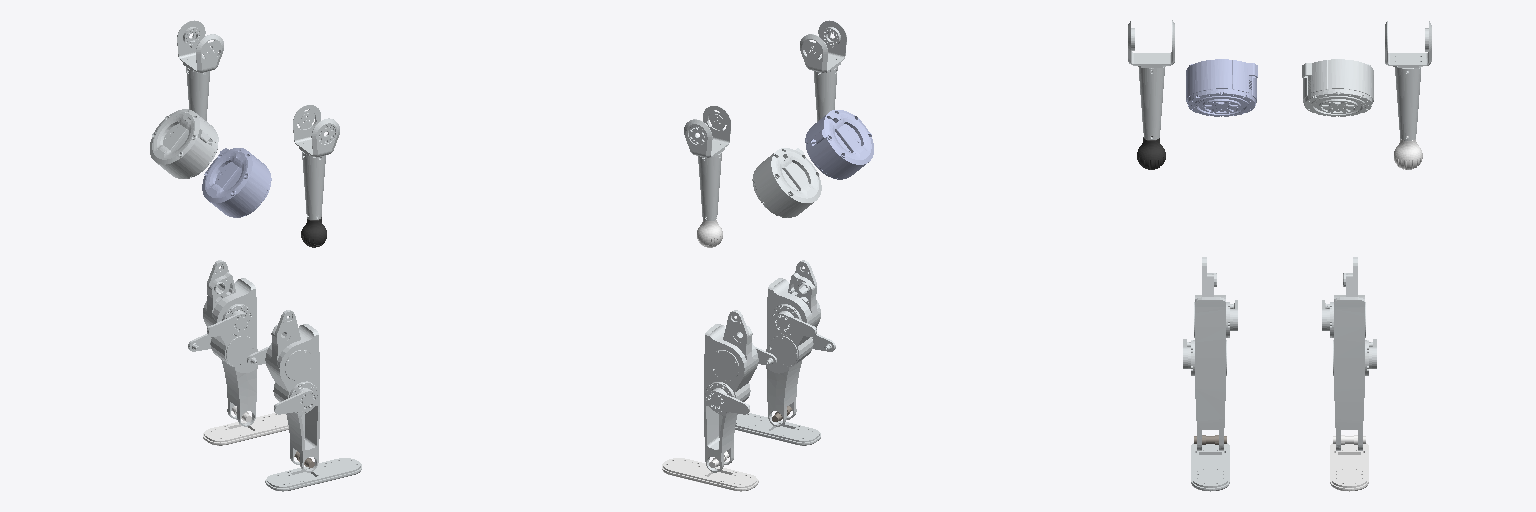
--- Facts derived from the render (not from the file) ---
3 views of the same robot in one strip: view 1: azimuth 30°, elevation 25°; view 2: azimuth 150°, elevation 25°; view 3: azimuth 270°, elevation 25° (orthographic).
Robot: N2 — 23 links, 22 joints (20 revolute, 2 fixed); root link base_link; default pose: every joint at zero.
Links seen in each view (by area): view 1: R_leg_knee_link, L_leg_knee_link, R_leg_hip_yaw_link, L_leg_hip_yaw_link, R_arm_elbow_Link, L_arm_elbow_Link, R_leg_ankle_roll_link, L_leg_ankle_roll_link, R_arm_hand_link; view 2: L_leg_knee_link, R_leg_knee_link, L_leg_hip_yaw_link, R_leg_hip_yaw_link, L_arm_elbow_Link, R_arm_elbow_Link, L_leg_ankle_roll_link, R_leg_ankle_roll_link, L_arm_hand_Link; view 3: R_leg_knee_link, L_leg_knee_link, L_leg_hip_yaw_link, R_leg_hip_yaw_link, L_arm_elbow_Link, R_arm_elbow_Link, L_leg_ankle_roll_link, R_leg_ankle_roll_link, R_arm_hand_link, L_arm_hand_Link.
Link boxes in pixels (x1=…): R_leg_knee_link: x1=247, y1=310, x2=319, y2=472; L_leg_knee_link: x1=188, y1=260, x2=257, y2=426; R_leg_hip_yaw_link: x1=202, y1=148, x2=271, y2=217; L_leg_hip_yaw_link: x1=150, y1=109, x2=218, y2=178; R_arm_elbow_Link: x1=293, y1=105, x2=339, y2=219; L_arm_elbow_Link: x1=177, y1=20, x2=223, y2=120; R_leg_ankle_roll_link: x1=265, y1=458, x2=361, y2=491; L_leg_ankle_roll_link: x1=203, y1=413, x2=288, y2=445; R_arm_hand_link: x1=301, y1=217, x2=326, y2=247; L_leg_knee_link: x1=704, y1=310, x2=776, y2=472; R_leg_knee_link: x1=766, y1=260, x2=835, y2=426; L_leg_hip_yaw_link: x1=752, y1=148, x2=821, y2=217; R_leg_hip_yaw_link: x1=805, y1=110, x2=873, y2=179; L_arm_elbow_Link: x1=684, y1=106, x2=730, y2=220; R_arm_elbow_Link: x1=800, y1=20, x2=846, y2=121; L_leg_ankle_roll_link: x1=662, y1=458, x2=758, y2=491; R_leg_ankle_roll_link: x1=735, y1=413, x2=820, y2=445; L_arm_hand_Link: x1=697, y1=219, x2=722, y2=247; R_leg_knee_link: x1=1183, y1=257, x2=1237, y2=450; L_leg_knee_link: x1=1322, y1=257, x2=1376, y2=450; L_leg_hip_yaw_link: x1=1302, y1=59, x2=1373, y2=116; R_leg_hip_yaw_link: x1=1186, y1=59, x2=1257, y2=116; L_arm_elbow_Link: x1=1385, y1=21, x2=1431, y2=140; R_arm_elbow_Link: x1=1128, y1=20, x2=1174, y2=139; L_leg_ankle_roll_link: x1=1330, y1=443, x2=1368, y2=491; R_leg_ankle_roll_link: x1=1191, y1=443, x2=1229, y2=491; R_arm_hand_link: x1=1137, y1=136, x2=1165, y2=169; L_arm_hand_Link: x1=1394, y1=136, x2=1422, y2=169.
Bounding box of the posed robot: 0.2902 × 0.4686 × 0.7356 m (x, y, z).
Meshes: 23 distinct files referenced, 12 mesh visuals loaded (12 binary STL); not drawn: 11 (reference not matched to a file when rendering).

The robot description file, URDF, robot "N2":
<?xml version="1.0" encoding="utf-8"?>
<!-- This URDF was automatically created by SolidWorks to URDF Exporter! Originally created by Stephen Brawner ([email redacted]) 
     Commit Version: 1.6.0-4-g7f85cfe  Build Version: 1.6.7995.38578
     For more information, please see http://wiki.ros.org/sw_urdf_exporter -->
<robot
  name="N2">
  <link
    name="base_link">
    <inertial>
      <origin
        xyz="0.0033233 0.00022809 0.048682"
        rpy="0 0 0" />
      <mass
        value="10.906" />
      <inertia
        ixx="0.036897"
        ixy="-1.1153E-05"
        ixz="0.0013572"
        iyy="0.017205"
        iyz="-7.8844E-06"
        izz="0.030119" />
    </inertial>
    <visual>
      <origin
        xyz="0 0 0"
        rpy="0 0 0" />
      <geometry>
        <mesh
          filename="../meshes/base_link.STL" />
      </geometry>
      <material
        name="">
        <color
          rgba="0.89804 0.91765 0.92941 1" />
      </material>
    </visual>
    <collision>
      <origin
        xyz="0 0 0"
        rpy="0 0 0" />
      <geometry>
        <mesh
          filename="../meshes/base_link.STL" />
      </geometry>
    </collision>
  </link>
  <link
    name="L_arm_shoulder_pitch_Link">
    <inertial>
      <origin
        xyz="0.0029295 -0.0009965 -0.0082628"
        rpy="0 0 0" />
      <mass
        value="0.53256" />
      <inertia
        ixx="0.00025803"
        ixy="-3.9348E-08"
        ixz="-8.4172E-07"
        iyy="0.00019086"
        iyz="-2.8405E-07"
        izz="0.00019" />
    </inertial>
    <visual>
      <origin
        xyz="0 0 0"
        rpy="0 0 0" />
      <geometry>
        <mesh
          filename="../meshes/l_arm_shoulder_pitch_Link.STL" />
      </geometry>
      <material
        name="">
        <color
          rgba="0.89804 0.91765 0.92941 1" />
      </material>
    </visual>
    <collision>
      <origin
        xyz="0 0 0"
        rpy="0 0 0" />
      <geometry>
        <mesh
          filename="../meshes/l_arm_shoulder_pitch_Link.STL" />
      </geometry>
    </collision>
  </link>
  <joint
    name="L_arm_shoulder_pitch_joint"
    type="revolute">
    <origin
      xyz="0.003069 0.16731 0.17743"
      rpy="-1.3963 0 0" />
    <parent
      link="base_link" />
    <child
      link="L_arm_shoulder_pitch_Link" />
    <axis
      xyz="0 0 1" />
    <limit
      lower="-2.7"
      upper="2.7"
      effort="27"
      velocity="10" />
  </joint>
  <link
    name="L_arm_shoulder_roll_Link">
    <inertial>
      <origin
        xyz="0.0036277 0.029074 -0.054867"
        rpy="0 0 0" />
      <mass
        value="0.77513" />
      <inertia
        ixx="0.00046269"
        ixy="3.0555E-06"
        ixz="-1.5146E-06"
        iyy="0.00035149"
        iyz="1.9611E-05"
        izz="0.00040004" />
    </inertial>
    <visual>
      <origin
        xyz="0 0 0"
        rpy="0 0 0" />
      <geometry>
        <mesh
          filename="../meshes/l_arm_shoulder_roll_Link.STL" />
      </geometry>
      <material
        name="">
        <color
          rgba="0.89804 0.91765 0.92941 1" />
      </material>
    </visual>
    <collision>
      <origin
        xyz="0 0 0"
        rpy="0 0 0" />
      <geometry>
        <mesh
          filename="../meshes/l_arm_shoulder_roll_Link.STL" />
      </geometry>
    </collision>
  </link>
  <joint
    name="L_arm_shoulder_roll_joint"
    type="revolute">
    <origin
      xyz="0 0 0"
      rpy="1.3963 0 0" />
    <parent
      link="L_arm_shoulder_pitch_Link" />
    <child
      link="L_arm_shoulder_roll_Link" />
    <axis
      xyz="1 0 0" />
    <limit
      lower="0"
      upper="2.1"
      effort="27"
      velocity="10" />
  </joint>
  <link
    name="L_arm_shoulder_yaw_Link">
    <inertial>
      <origin
        xyz="0.0025992 4.9093E-05 -0.15799"
        rpy="0 0 0" />
      <mass
        value="0.62854" />
      <inertia
        ixx="0.01"
        ixy="-7.1141E-08"
        ixz="1.0035E-06"
        iyy="0.01"
        iyz="-8.1583E-07"
        izz="0.01" />
    </inertial>
    <visual>
      <origin
        xyz="0 0 0"
        rpy="0 0 0" />
      <geometry>
        <mesh
          filename="../meshes/l_arm_shoulder_yaw_Link.STL" />
      </geometry>
      <material
        name="">
        <color
          rgba="1 1 1 1" />
      </material>
    </visual>
    <collision>
      <origin
        xyz="0 0 0"
        rpy="0 0 0" />
      <geometry>
        <mesh
          filename="../meshes/l_arm_shoulder_yaw_Link.STL" />
      </geometry>
    </collision>
  </link>
  <joint
    name="L_arm_shoulder_yaw_joint"
    type="revolute">
    <origin
      xyz="0 0.030484 0"
      rpy="0 0 0" />
    <parent
      link="L_arm_shoulder_roll_Link" />
    <child
      link="L_arm_shoulder_yaw_Link" />
    <axis
      xyz="0 0 1" />
    <limit
      lower="-2.7"
      upper="2.7"
      effort="27"
      velocity="10" />
  </joint>
  <link
    name="L_arm_elbow_Link">
    <inertial>
      <origin
        xyz="-0.0038821 0.00087577 -0.07099"
        rpy="0 0 0" />
      <mass
        value="0.35793" />
      <inertia
        ixx="0.00029656"
        ixy="7.1133E-08"
        ixz="-2.9612E-06"
        iyy="0.00030929"
        iyz="4.6678E-07"
        izz="6.9881E-05" />
    </inertial>
    <visual>
      <origin
        xyz="0 0 0"
        rpy="0 0 0" />
      <geometry>
        <mesh
          filename="../meshes/l_arm_elbow_Link.STL" />
      </geometry>
      <material
        name="">
        <color
          rgba="0.89804 0.91765 0.92941 1" />
      </material>
    </visual>
    <collision>
      <origin
        xyz="0 0 0"
        rpy="0 0 0" />
      <geometry>
        <mesh
          filename="../meshes/l_arm_elbow_Link.STL" />
      </geometry>
    </collision>
  </link>
  <joint
    name="L_arm_elbow_joint"
    type="revolute">
    <origin
      xyz="0.0030284 0 -0.17141"
      rpy="0 0 0" />
    <parent
      link="L_arm_shoulder_yaw_Link" />
    <child
      link="L_arm_elbow_Link" />
    <axis
      xyz="0 1 0" />
    <limit
      lower="-1.8"
      upper="1"
      effort="27"
      velocity="10" />
  </joint>
  <link
    name="L_arm_hand_Link">
    <inertial>
      <origin
        xyz="-2.6372E-08 -0.00036865 -0.014941"
        rpy="0 0 0" />
      <mass
        value="0.063335" />
      <inertia
        ixx="1.7685E-05"
        ixy="-4.0855E-11"
        ixz="8.2119E-11"
        iyy="1.7585E-05"
        iyz="1.3619E-11"
        izz="1.1594E-05" />
    </inertial>
    <visual>
      <origin
        xyz="0 0 0"
        rpy="0 0 0" />
      <geometry>
        <mesh
          filename="../meshes/l_arm_hand_Link.STL" />
      </geometry>
      <material
        name="">
        <color
          rgba="1 1 1 1" />
      </material>
    </visual>
    <collision>
      <origin
        xyz="0 0 0"
        rpy="0 0 0" />
      <geometry>
        <mesh
          filename="../meshes/l_arm_hand_Link.STL" />
      </geometry>
    </collision>
  </link>
  <joint
    name="L_arm_hand_joint"
    type="fixed" dont_collapse="true">
    <origin
      xyz="-0.0045 0.00036368 -0.1815"
      rpy="0 0 0" />
    <parent
      link="L_arm_elbow_Link" />
    <child
      link="L_arm_hand_Link" />
    <axis
      xyz="0 0 0" />
  </joint>
  <link
    name="R_arm_shoulder_pitch_Link">
    <inertial>
      <origin
        xyz="0.0029295 0.0009965 -0.0082628"
        rpy="0 0 0" />
      <mass
        value="0.53256" />
      <inertia
        ixx="0.00025803"
        ixy="3.9348E-08"
        ixz="-8.4172E-07"
        iyy="0.00019086"
        iyz="2.8405E-07"
        izz="0.00019" />
    </inertial>
    <visual>
      <origin
        xyz="0 0 0"
        rpy="0 0 0" />
      <geometry>
        <mesh
          filename="../meshes/r_arm_shoulder_pitch_Link.STL" />
      </geometry>
      <material
        name="">
        <color
          rgba="0.64706 0.61961 0.58824 1" />
      </material>
    </visual>
    <collision>
      <origin
        xyz="0 0 0"
        rpy="0 0 0" />
      <geometry>
        <mesh
          filename="../meshes/r_arm_shoulder_pitch_Link.STL" />
      </geometry>
    </collision>
  </link>
  <joint
    name="R_arm_shoulder_pitch_joint"
    type="revolute">
    <origin
      xyz="0.003069 -0.16721 0.17835"
      rpy="1.3963 0 0" />
    <parent
      link="base_link" />
    <child
      link="R_arm_shoulder_pitch_Link" />
    <axis
      xyz="0 0 -1" />
    <limit
      lower="-2.7"
      upper="2.7"
      effort="27"
      velocity="10" />
  </joint>
  <link
    name="R_arm_shoulder_roll_Link">
    <inertial>
      <origin
        xyz="0.0036277 -0.029074 -0.054867"
        rpy="0 0 0" />
      <mass
        value="0.77513" />
      <inertia
        ixx="0.00046269"
        ixy="-3.0555E-06"
        ixz="-1.5146E-06"
        iyy="0.00035149"
        iyz="-1.9611E-05"
        izz="0.00040004" />
    </inertial>
    <visual>
      <origin
        xyz="0 0 0"
        rpy="0 0 0" />
      <geometry>
        <mesh
          filename="../meshes/r_arm_shoulder_roll_Link.STL" />
      </geometry>
      <material
        name="">
        <color
          rgba="0.89804 0.91765 0.92941 1" />
      </material>
    </visual>
    <collision>
      <origin
        xyz="0 0 0"
        rpy="0 0 0" />
      <geometry>
        <mesh
          filename="../meshes/r_arm_shoulder_roll_Link.STL" />
      </geometry>
    </collision>
  </link>
  <joint
    name="R_arm_shoulder_roll_joint"
    type="revolute">
    <origin
      xyz="0 0 0"
      rpy="-1.3963 0 0" />
    <parent
      link="R_arm_shoulder_pitch_Link" />
    <child
      link="R_arm_shoulder_roll_Link" />
    <axis
      xyz="1 0 0" />
    <limit
      lower="-2.1"
      upper="0"
      effort="27"
      velocity="10" />
  </joint>
  <link
    name="R_arm_shoulder_yaw_Link">
    <inertial>
      <origin
        xyz="0.0025992 -4.9093E-05 -0.15799"
        rpy="0 0 0" />
      <mass
        value="0.62854" />
      <inertia
        ixx="0.01"
        ixy="7.1141E-08"
        ixz="1.0035E-06"
        iyy="0.01"
        iyz="8.1583E-07"
        izz="0.01" />
    </inertial>
    <visual>
      <origin
        xyz="0 0 0"
        rpy="0 0 0" />
      <geometry>
        <mesh
          filename="../meshes/r_arm_shoulder_yaw_Link.STL" />
      </geometry>
      <material
        name="">
        <color
          rgba="0.64706 0.61961 0.58824 1" />
      </material>
    </visual>
    <collision>
      <origin
        xyz="0 0 0"
        rpy="0 0 0" />
      <geometry>
        <mesh
          filename="../meshes/r_arm_shoulder_yaw_Link.STL" />
      </geometry>
    </collision>
  </link>
  <joint
    name="R_arm_shoulder_yaw_joint"
    type="revolute">
    <origin
      xyz="0 -0.030576 0"
      rpy="0 0 0" />
    <parent
      link="R_arm_shoulder_roll_Link" />
    <child
      link="R_arm_shoulder_yaw_Link" />
    <axis
      xyz="0 0 1" />
    <limit
      lower="-2.7"
      upper="2.7"
      effort="27"
      velocity="10" />
  </joint>
  <link
    name="R_arm_elbow_Link">
    <inertial>
      <origin
        xyz="-0.0038821 -0.00087579 -0.07099"
        rpy="0 0 0" />
      <mass
        value="0.35793" />
      <inertia
        ixx="0.00029656"
        ixy="-7.2704E-08"
        ixz="-2.9611E-06"
        iyy="0.00030929"
        iyz="-4.6693E-07"
        izz="6.9881E-05" />
    </inertial>
    <visual>
      <origin
        xyz="0 0 0"
        rpy="0 0 0" />
      <geometry>
        <mesh
          filename="../meshes/r_arm_elbow_Link.STL" />
      </geometry>
      <material
        name="">
        <color
          rgba="0.89804 0.91765 0.92941 1" />
      </material>
    </visual>
    <collision>
      <origin
        xyz="0 0 0"
        rpy="0 0 0" />
      <geometry>
        <mesh
          filename="../meshes/r_arm_elbow_Link.STL" />
      </geometry>
    </collision>
  </link>
  <joint
    name="R_arm_elbow_joint"
    type="revolute">
    <origin
      xyz="0.0030284 0 -0.17141"
      rpy="0 0 0" />
    <parent
      link="R_arm_shoulder_yaw_Link" />
    <child
      link="R_arm_elbow_Link" />
    <axis
      xyz="0 1 0" />
    <limit
      lower="-1.8"
      upper="1"
      effort="27"
      velocity="10" />
  </joint>
  <link
    name="R_arm_hand_link">
   <inertial>
      <origin
        xyz="-2.6372E-08 0.00036865 -0.014941"
        rpy="0 0 0" />
      <mass
        value="0.063335" />
      <inertia
        ixx="1.7685E-05"
        ixy="4.0855E-11"
        ixz="8.2119E-11"
        iyy="1.7585E-05"
        iyz="-1.3619E-11"
        izz="1.1594E-05" />
    </inertial>
    <visual>
      <origin
        xyz="0 0 0"
        rpy="0 0 0" />
      <geometry>
        <mesh
          filename="../meshes/r_arm_hand_Link.STL" />
      </geometry>
      <material
        name="">
        <color
          rgba="0.29804 0.29804 0.29804 1" />
      </material>
    </visual>
    <collision>
      <origin
        xyz="0 0 0"
        rpy="0 0 0" />
      <geometry>
        <mesh
          filename="../meshes/r_arm_hand_Link.STL" />
      </geometry>
    </collision>
  </link>
  <joint
    name="R_arm_hand_joint"
    type="fixed" dont_collapse="true">
    <origin
      xyz="-0.0045 -0.00036368 -0.1815"
      rpy="0 0 0" />
    <parent
      link="R_arm_elbow_Link" />
    <child
      link="R_arm_hand_link" />
    <axis
      xyz="0 0 0" />
  </joint>
  <link
    name="L_leg_hip_yaw_link">
    <inertial>
      <origin
        xyz="-0.022328 -0.0010228 0.019477"
        rpy="0 0 0" />
      <mass
        value="1.3433" />
      <inertia
        ixx="0.0021778"
        ixy="-7.7601E-07"
        ixz="8.3614E-06"
        iyy="0.0012569"
        iyz="5.4961E-06"
        izz="0.0011856" />
    </inertial>
    <visual>
      <origin
        xyz="0 0 0"
        rpy="0 0 0" />
      <geometry>
        <mesh
          filename="../meshes/l_leg_hip_yaw_link.STL" />
      </geometry>
      <material
        name="">
        <color
          rgba="0.89804 0.91765 0.92941 1" />
      </material>
    </visual>
    <collision>
      <origin
        xyz="0 0 0"
        rpy="0 0 0" />
      <geometry>
        <mesh
          filename="../meshes/l_leg_hip_yaw_link.STL" />
      </geometry>
    </collision>
  </link>
  <joint
    name="L_leg_hip_yaw_joint"
    type="revolute">
    <origin
      xyz="-0.065793 0.091233 -0.14593"
      rpy="0 0.7854 0" />
    <parent
      link="base_link" />
    <child
      link="L_leg_hip_yaw_link" />
    <axis
      xyz="0 0 1" />
    <limit
      lower="-0.65"
      upper="1"
      effort="90"
      velocity="14" />
  </joint>
  <link
    name="L_leg_hip_roll_link">
    <inertial>
      <origin
        xyz="0.084108 -0.01988 0.0020216"
        rpy="0 0 0" />
      <mass
        value="1.9691" />
      <inertia
        ixx="0.0020007"
        ixy="-1.7283E-05"
        ixz="3.6844E-06"
        iyy="0.0041236"
        iyz="3.2614E-06"
        izz="0.0025413" />
    </inertial>
    <visual>
      <origin
        xyz="0 0 0"
        rpy="0 0 0" />
      <geometry>
        <mesh
          filename="../meshes/l_leg_hip_roll_link.STL" />
      </geometry>
      <material
        name="">
        <color
          rgba="0.89804 0.91765 0.92941 1" />
      </material>
    </visual>
    <collision>
      <origin
        xyz="0 0 0"
        rpy="0 0 0" />
      <geometry>
        <mesh
          filename="../meshes/l_leg_hip_roll_link.STL" />
      </geometry>
    </collision>
  </link>
  <joint
    name="L_leg_hip_roll_joint"
    type="revolute">
    <origin
      xyz="0 0 0"
      rpy="0 0 0" />
    <parent
      link="L_leg_hip_yaw_link" />
    <child
      link="L_leg_hip_roll_link" />
    <axis
      xyz="1 0 0" />
    <limit
      lower="-0.65"
      upper="1"
      effort="90"
      velocity="14" />
  </joint>
  <link
    name="L_leg_hip_pitch_link">
    <inertial>
      <origin
        xyz="0.0048954 0.046764 -0.028101"
        rpy="0 0 0" />
      <mass
        value="3.1965" />
      <inertia
        ixx="0.0091975"
        ixy="5.4555E-05"
        ixz="0.00059007"
        iyy="0.011943"
        iyz="-0.00045886"
        izz="0.0032838" />
    </inertial>
    <visual>
      <origin
        xyz="0 0 0"
        rpy="0 0 0" />
      <geometry>
        <mesh
          filename="../meshes/l_leg_hip_pitch_link.STL" />
      </geometry>
      <material
        name="">
        <color
          rgba="1 1 1 1" />
      </material>
    </visual>
    <collision>
      <origin
        xyz="0 0 0"
        rpy="0 0 0" />
      <geometry>
        <mesh
          filename="../meshes/l_leg_hip_pitch_link.STL" />
      </geometry>
    </collision>
  </link>
  <joint
    name="L_leg_hip_pitch_joint"
    type="revolute">
    <origin
      xyz="0.09758 -0.0012327 0.0021351"
      rpy="0 -0.7854 0" />
    <parent
      link="L_leg_hip_roll_link" />
    <child
      link="L_leg_hip_pitch_link" />
    <axis
      xyz="0 1 0" />
    <limit
      lower="-1.57"
      upper="0.78"
      effort="150"
      velocity="14" />
  </joint>
  <link
    name="L_leg_knee_link">
    <inertial>
      <origin
        xyz="0.028231 0.017047 -0.095326"
        rpy="0 0 0" />
      <mass
        value="1.7886" />
      <inertia
        ixx="0.0040834"
        ixy="1.5129E-05"
        ixz="0.00041996"
        iyy="0.0046607"
        iyz="-7.7332E-05"
        izz="0.00089674" />
    </inertial>
    <visual>
      <origin
        xyz="0 0 0"
        rpy="0 0 0" />
      <geometry>
        <mesh
          filename="../meshes/l_leg_knee_link.STL" />
      </geometry>
      <material
        name="">
        <color
          rgba="0.89804 0.91765 0.92941 1" />
      </material>
    </visual>
    <collision>
      <origin
        xyz="0 0 0"
        rpy="0 0 0" />
      <geometry>
        <mesh
          filename="../meshes/l_leg_knee_link.STL" />
      </geometry>
    </collision>
  </link>
  <joint
    name="L_leg_knee_joint"
    type="revolute">
    <origin
      xyz="-0.016942 0 -0.19928"
      rpy="0 0 0" />
    <parent
      link="L_leg_hip_pitch_link" />
    <child
      link="L_leg_knee_link" />
    <axis
      xyz="0 1 0" />
    <limit
      lower="0"
      upper="2.2"
      effort="150"
      velocity="14" />
  </joint>
  <link
    name="L_leg_ankle_pitch_link">
    <inertial>
      <origin
        xyz="-9.0899E-06 2.9433E-08 -0.010853"
        rpy="0 0 0" />
      <mass
        value="0.22437" />
      <inertia
        ixx="0.01"
        ixy="1.9749E-10"
        ixz="-8.5472E-09"
        iyy="0.01"
        iyz="7.374E-12"
        izz="0.01" />
    </inertial>
    <visual>
      <origin
        xyz="0 0 0"
        rpy="0 0 0" />
      <geometry>
        <mesh
          filename="../meshes/l_leg_ankle_pitch_link.STL" />
      </geometry>
      <material
        name="">
        <color
          rgba="1 1 1 1" />
      </material>
    </visual>
    <collision>
      <origin
        xyz="0 0 0"
        rpy="0 0 0" />
      <geometry>
        <mesh
          filename="../meshes/l_leg_ankle_pitch_link.STL" />
      </geometry>
    </collision>
  </link>
  <joint
    name="L_leg_ankle_pitch_joint"
    type="revolute">
    <origin
      xyz="0.046825 0.017099 -0.25067"
      rpy="0 0 0" />
    <parent
      link="L_leg_knee_link" />
    <child
      link="L_leg_ankle_pitch_link" />
    <axis
      xyz="0 1 0" />
    <limit
      lower="-1"
      upper="0.75"
      effort="70"
      velocity="12" />
  </joint>
  <link
    name="L_leg_ankle_roll_link">
    <inertial>
      <origin
        xyz="0.0027677 -1.5769E-06 -0.027597"
        rpy="0 0 0" />
      <mass
        value="0.24397" />
      <inertia
        ixx="0.01"
        ixy="7.9155E-11"
        ixz="-2.3871E-07"
        iyy="0.01"
        iyz="-3.1794E-13"
        izz="0.01" />
    </inertial>
    <visual>
      <origin
        xyz="0 0 0"
        rpy="0 0 0" />
      <geometry>
        <mesh
          filename="../meshes/l_leg_ankle_roll_link.STL" />
      </geometry>
      <material
        name="">
        <color
          rgba="1 1 1 1" />
      </material>
    </visual>
    <collision>
      <origin
        xyz="0 0 0"
        rpy="0 0 0" />
      <geometry>
        <mesh
          filename="../meshes/l_leg_ankle_roll_link.STL" />
      </geometry>
    </collision>
  </link>
  <joint
    name="L_leg_ankle_roll_joint"
    type="revolute">
    <origin
      xyz="0 0 0"
      rpy="0 0 0" />
    <parent
      link="L_leg_ankle_pitch_link" />
    <child
      link="L_leg_ankle_roll_link" />
    <axis
      xyz="1 0 0" />
    <limit
      lower="-0.314"
      upper="0.314"
      effort="70"
      velocity="12" />
  </joint>
  <link
    name="R_leg_hip_yaw_link">
    <inertial>
      <origin
        xyz="-0.022328 0.0010228 0.019477"
        rpy="0 0 0" />
      <mass
        value="1.3433" />
      <inertia
        ixx="0.0021778"
        ixy="7.7601E-07"
        ixz="8.3614E-06"
        iyy="0.0012569"
        iyz="-5.4961E-06"
        izz="0.0011856" />
    </inertial>
    <visual>
      <origin
        xyz="0 0 0"
        rpy="0 0 0" />
      <geometry>
        <mesh
          filename="../meshes/r_leg_hip_yaw_link.STL" />
      </geometry>
      <material
        name="">
        <color
          rgba="0.79216 0.81961 0.93333 1" />
      </material>
    </visual>
    <collision>
      <origin
        xyz="0 0 0"
        rpy="0 0 0" />
      <geometry>
        <mesh
          filename="../meshes/r_leg_hip_yaw_link.STL" />
      </geometry>
    </collision>
  </link>
  <joint
    name="R_leg_hip_yaw_joint"
    type="revolute">
    <origin
      xyz="-0.065793 -0.091233 -0.14593"
      rpy="0 0.7854 0" />
    <parent
      link="base_link" />
    <child
      link="R_leg_hip_yaw_link" />
    <axis
      xyz="0 0 1" />
    <limit
      lower="-1"
      upper="0.65"
      effort="90"
      velocity="14" />
  </joint>
  <link
    name="R_leg_hip_roll_link">
    <inertial>
      <origin
        xyz="0.084108 0.01988 0.0020216"
        rpy="0 0 0" />
      <mass
        value="1.9691" />
     <inertia
        ixx="0.0020007"
        ixy="1.7283E-05"
        ixz="3.6844E-06"
        iyy="0.0041236"
        iyz="-3.2614E-06"
        izz="0.0025413" />
    </inertial>
    <visual>
      <origin
        xyz="0 0 0"
        rpy="0 0 0" />
      <geometry>
        <mesh
          filename="../meshes/r_leg_hip_roll_link.STL" />
      </geometry>
      <material
        name="">
        <color
          rgba="0.89804 0.91765 0.92941 1" />
      </material>
    </visual>
    <collision>
      <origin
        xyz="0 0 0"
        rpy="0 0 0" />
      <geometry>
        <mesh
          filename="../meshes/r_leg_hip_roll_link.STL" />
      </geometry>
    </collision>
  </link>
  <joint
    name="R_leg_hip_roll_joint"
    type="revolute">
    <origin
      xyz="0 0 0"
      rpy="0 0 0" />
    <parent
      link="R_leg_hip_yaw_link" />
    <child
      link="R_leg_hip_roll_link" />
    <axis
      xyz="1 0 0" />
    <limit
      lower="-1"
      upper="0.65"
      effort="90"
      velocity="14" />
  </joint>
  <link
    name="R_leg_hip_pitch_link">
    <inertial>
      <origin
        xyz="0.0048954 -0.046764 -0.028101"
        rpy="0 0 0" />
      <mass
        value="3.1965" />
      <inertia
        ixx="0.0091975"
        ixy="-5.4555E-05"
        ixz="0.00059007"
        iyy="0.011943"
        iyz="0.00045886"
        izz="0.0032838" />
    </inertial>
    <visual>
      <origin
        xyz="0 0 0"
        rpy="0 0 0" />
      <geometry>
        <mesh
          filename="../meshes/r_leg_hip_pitch_link.STL" />
      </geometry>
      <material
        name="">
        <color
          rgba="1 1 1 1" />
      </material>
    </visual>
    <collision>
      <origin
        xyz="0 0 0"
        rpy="0 0 0" />
      <geometry>
        <mesh
          filename="../meshes/r_leg_hip_pitch_link.STL" />
      </geometry>
    </collision>
  </link>
  <joint
    name="R_leg_hip_pitch_joint"
    type="revolute">
    <origin
      xyz="0.09758 0.0012327 0.0021351"
      rpy="0 -0.7854 0" />
    <parent
      link="R_leg_hip_roll_link" />
    <child
      link="R_leg_hip_pitch_link" />
    <axis
      xyz="0 1 0" />
    <limit
      lower="-1.57"
      upper="0.78"
      effort="150"
      velocity="14" />
  </joint>
  <link
    name="R_leg_knee_link">
    <inertial>
      <origin
        xyz="0.028231 -0.017047 -0.095326"
        rpy="0 0 0" />
      <mass
        value="1.7886" />
      <inertia
        ixx="0.0040834"
        ixy="-1.5129E-05"
        ixz="0.00041996"
        iyy="0.0046607"
        iyz="7.7332E-05"
        izz="0.00089674" />
    </inertial>
    <visual>
      <origin
        xyz="0 0 0"
        rpy="0 0 0" />
      <geometry>
        <mesh
          filename="../meshes/r_leg_knee_link.STL" />
      </geometry>
      <material
        name="">
        <color
          rgba="0.89804 0.91765 0.92941 1" />
      </material>
    </visual>
    <collision>
      <origin
        xyz="0 0 0"
        rpy="0 0 0" />
      <geometry>
        <mesh
          filename="../meshes/r_leg_knee_link.STL" />
      </geometry>
    </collision>
  </link>
  <joint
    name="R_leg_knee_joint"
    type="revolute">
    <origin
      xyz="-0.016942 0 -0.19928"
      rpy="0 0 0" />
    <parent
      link="R_leg_hip_pitch_link" />
    <child
      link="R_leg_knee_link" />
    <axis
      xyz="0 1 0" />
    <limit
      lower="0"
      upper="2.2"
      effort="150"
      velocity="14" />
  </joint>
  <link
    name="R_leg_ankle_pitch_link">
    <inertial>
      <origin
        xyz="-9.0899E-06 -2.9433E-08 -0.010853"
        rpy="0 0 0" />
      <mass
        value="0.22437" />
      <inertia
        ixx="0.01"
        ixy="-1.9749E-10"
        ixz="-8.5472E-09"
        iyy="0.01"
        iyz="-7.374E-12"
        izz="0.01" />
    </inertial>
    <visual>
      <origin
        xyz="0 0 0"
        rpy="0 0 0" />
      <geometry>
        <mesh
          filename="../meshes/r_leg_ankle_pitch_link.STL" />
      </geometry>
      <material
        name="">
        <color
          rgba="0.65098 0.61961 0.58824 1" />
      </material>
    </visual>
    <collision>
      <origin
        xyz="0 0 0"
        rpy="0 0 0" />
      <geometry>
        <mesh
          filename="../meshes/r_leg_ankle_pitch_link.STL" />
      </geometry>
    </collision>
  </link>
  <joint
    name="R_leg_ankle_pitch_joint"
    type="revolute">
    <origin
      xyz="0.046825 -0.017099 -0.25067"
      rpy="0 0 0" />
    <parent
      link="R_leg_knee_link" />
    <child
      link="R_leg_ankle_pitch_link" />
    <axis
      xyz="0 1 0" />
    <limit
      lower="-1"
      upper="0.75"
      effort="70"
      velocity="12" />
  </joint>
  <link
    name="R_leg_ankle_roll_link">
    <inertial>
      <origin
        xyz="0.0027677 1.5769E-06 -0.027597"
        rpy="0 0 0" />
      <mass
        value="0.24397" />
      <inertia
        ixx="0.01"
        ixy="-7.9155E-11"
        ixz="-2.3871E-07"
        iyy="0.01"
        iyz="3.1794E-13"
        izz="0.01" />
    </inertial>
    <visual>
      <origin
        xyz="0 0 0"
        rpy="0 0 0" />
      <geometry>
        <mesh
          filename="../meshes/r_leg_ankle_roll_link.STL" />
      </geometry>
      <material
        name="">
        <color
          rgba="0.89804 0.91765 0.92941 1" />
      </material>
    </visual>
    <collision>
      <origin
        xyz="0 0 0"
        rpy="0 0 0" />
      <geometry>
        <mesh
          filename="../meshes/r_leg_ankle_roll_link.STL" />
      </geometry>
    </collision>
  </link>
  <joint
    name="R_leg_ankle_roll_joint"
    type="revolute">
    <origin
      xyz="0 0 0"
      rpy="0 0 0" />
    <parent
      link="R_leg_ankle_pitch_link" />
    <child
      link="R_leg_ankle_roll_link" />
    <axis
      xyz="1 0 0" />
    <limit
      lower="-0.314"
      upper="0.314"
      effort="70"
      velocity="12" />
  </joint>
</robot>
